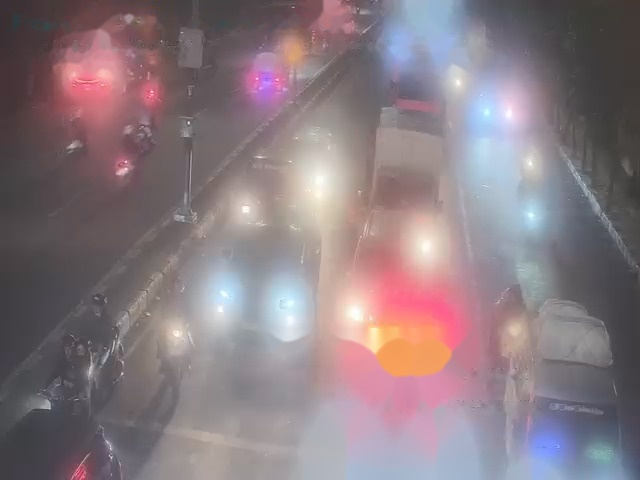Mobil: (506, 303, 623, 480), (356, 208, 453, 351), (223, 213, 313, 329), (282, 120, 335, 193)
Motor: (495, 285, 524, 358), (161, 314, 191, 380), (39, 372, 87, 410), (79, 341, 108, 383), (516, 192, 548, 230), (521, 150, 543, 177)
Truk: (370, 109, 444, 204), (240, 141, 321, 216)
